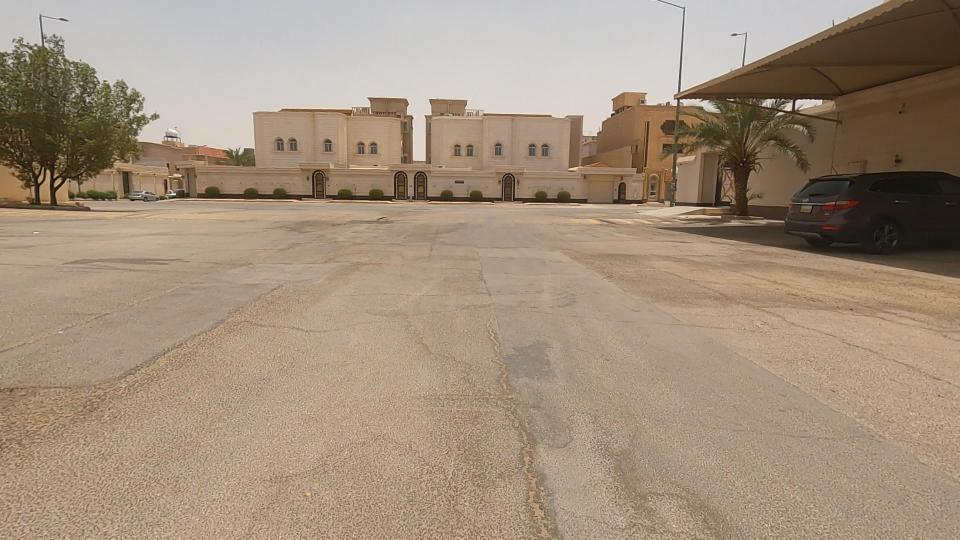POTHOLES: (464, 390, 584, 540), (449, 318, 571, 464), (108, 296, 273, 386), (38, 345, 173, 439), (320, 189, 422, 255)
